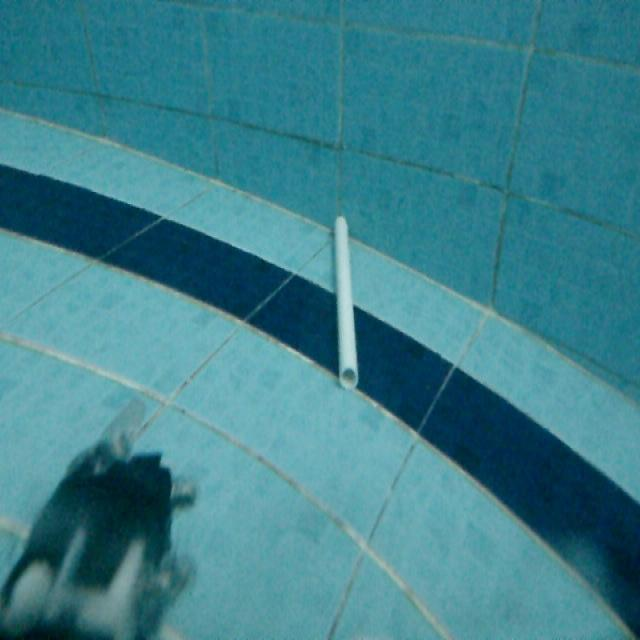Cube: (330, 209, 361, 391)
